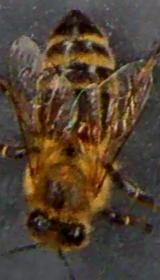varroa_mite: (72, 109, 116, 148)
